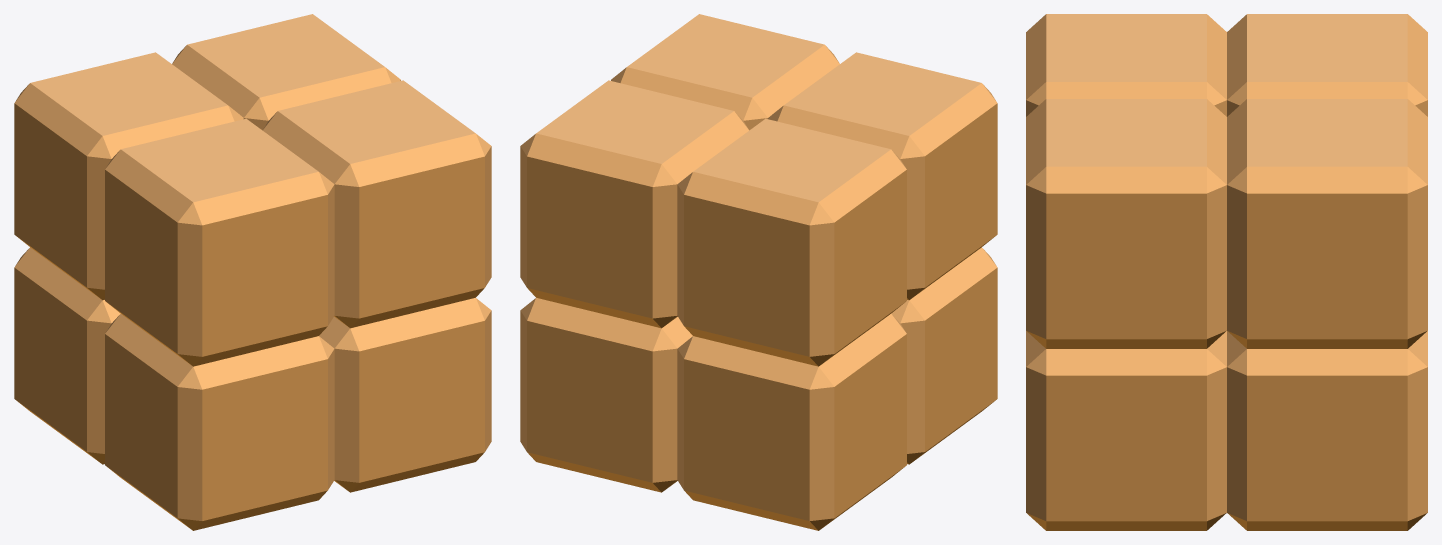
Rendered from m_kub_clay_miniCubePile.FBX.
3 renders of one model, left to right at view 1: azimuth 30°, elevation 25°; view 2: azimuth 150°, elevation 25°; view 3: azimuth 270°, elevation 25°, orthographic. The views are drawn at different scales.
Parts seen in each view (by area): view 1: m_kub_clay_miniCubePile; view 2: m_kub_clay_miniCubePile; view 3: m_kub_clay_miniCubePile.
Part boxes in pixels (x1,y1,x2,y2): m_kub_clay_miniCubePile: (14,14,491,530); m_kub_clay_miniCubePile: (520,14,997,530); m_kub_clay_miniCubePile: (1026,14,1427,530).
Bounding box in the file's own units: 2 × 2 × 2.
